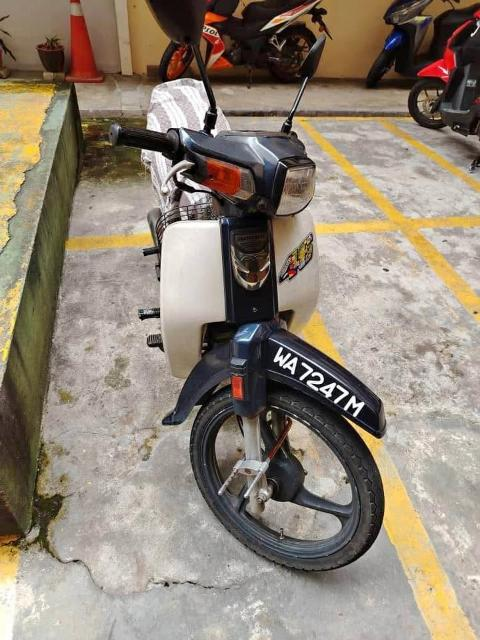License_Plate: (272, 344, 371, 429)
motorcycle: (109, 1, 390, 573)
